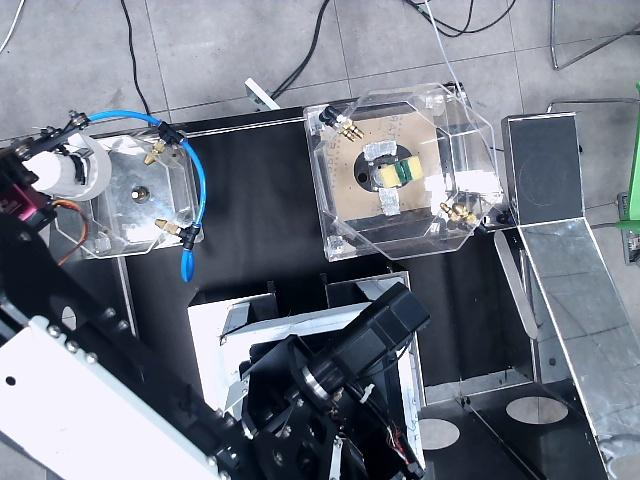cup: (23, 134, 111, 200)
